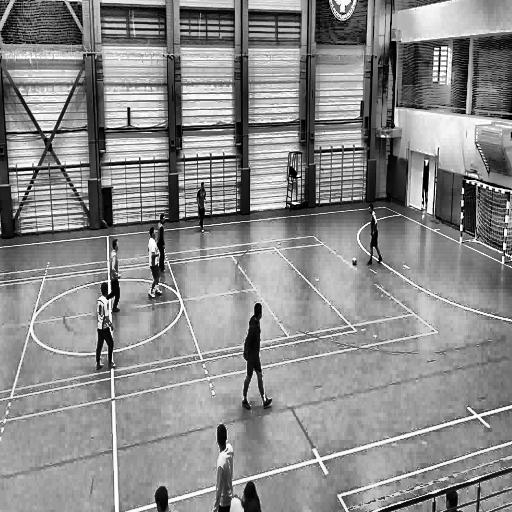ball: (351, 254, 358, 268)
player: (240, 303, 274, 412), (210, 421, 234, 512), (94, 282, 118, 370), (104, 239, 122, 312), (367, 202, 385, 270), (148, 224, 162, 298), (196, 180, 209, 239), (157, 212, 168, 277)
